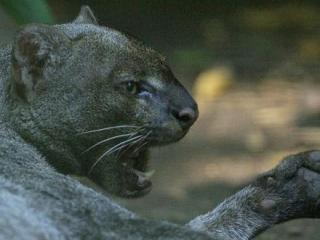Jaguarundi: (10, 6, 310, 236)
